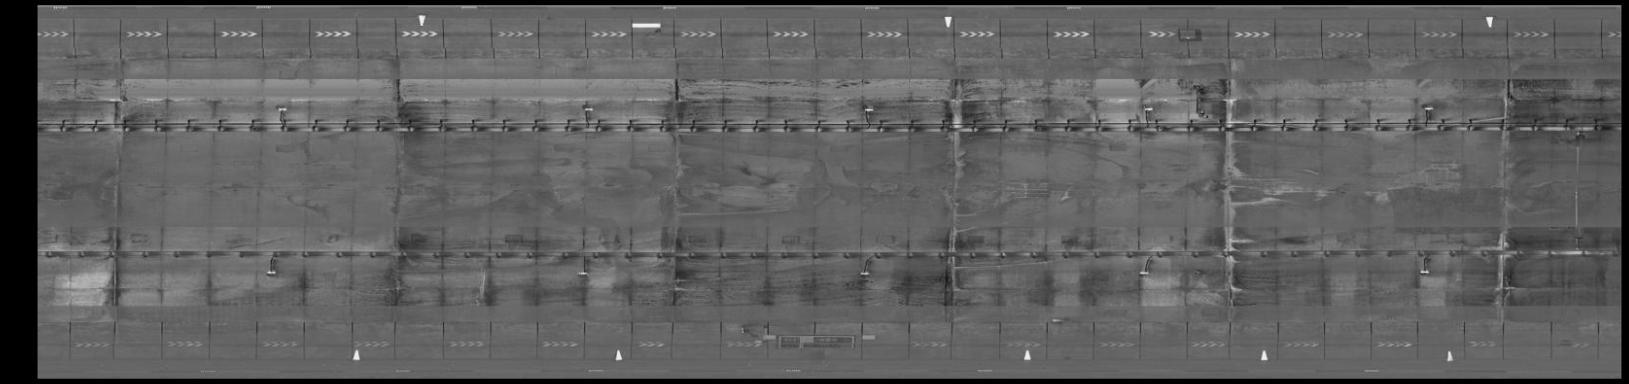light: (1409, 264, 1435, 281), (1136, 104, 1159, 116), (1133, 267, 1155, 279), (262, 265, 281, 279), (1418, 102, 1436, 115), (854, 268, 875, 279), (575, 267, 593, 279), (272, 105, 293, 115), (859, 104, 876, 116), (580, 104, 599, 114)
